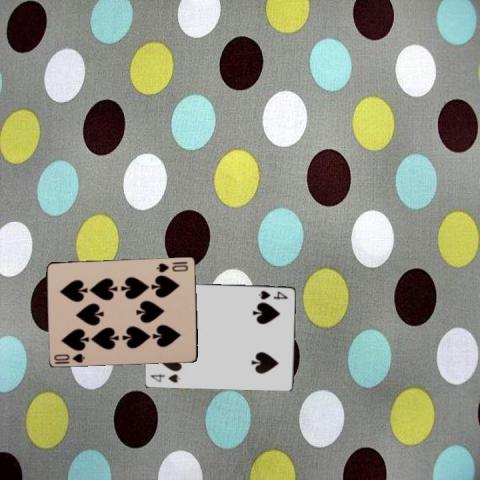10s: (51, 350, 87, 364), (155, 260, 189, 273)
4s: (256, 287, 289, 301), (148, 371, 181, 384)
